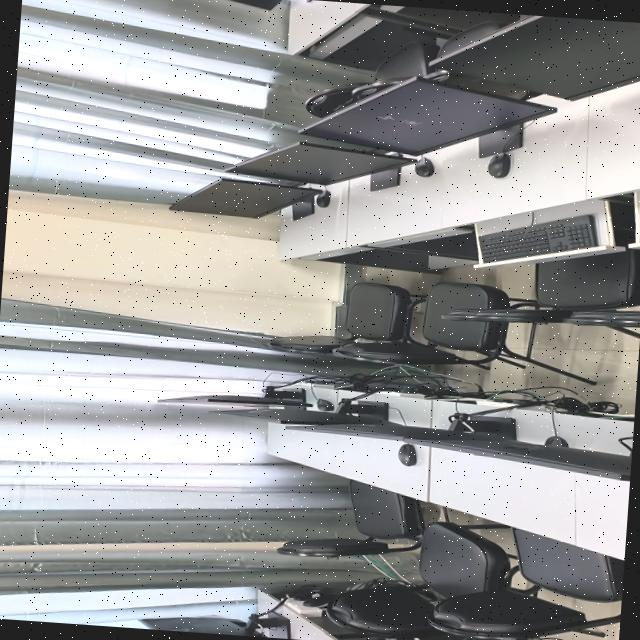Chair: (331, 281, 593, 382), (424, 525, 624, 637), (326, 520, 517, 636), (442, 248, 640, 321), (277, 479, 424, 556), (269, 281, 426, 353), (303, 40, 426, 116), (423, 69, 539, 98), (427, 19, 499, 65), (351, 75, 418, 101), (567, 310, 640, 326)
Keyboard: (479, 215, 597, 261)
Monitor: (299, 75, 556, 154), (431, 14, 640, 99), (403, 437, 631, 479), (225, 141, 416, 190), (169, 177, 319, 218), (285, 416, 515, 440), (209, 399, 388, 423), (139, 612, 290, 639), (157, 388, 312, 406), (232, 0, 281, 9)
Mouse: (488, 152, 510, 176), (397, 443, 416, 465), (414, 156, 433, 176), (543, 434, 567, 446), (316, 189, 330, 206), (316, 398, 334, 410)
